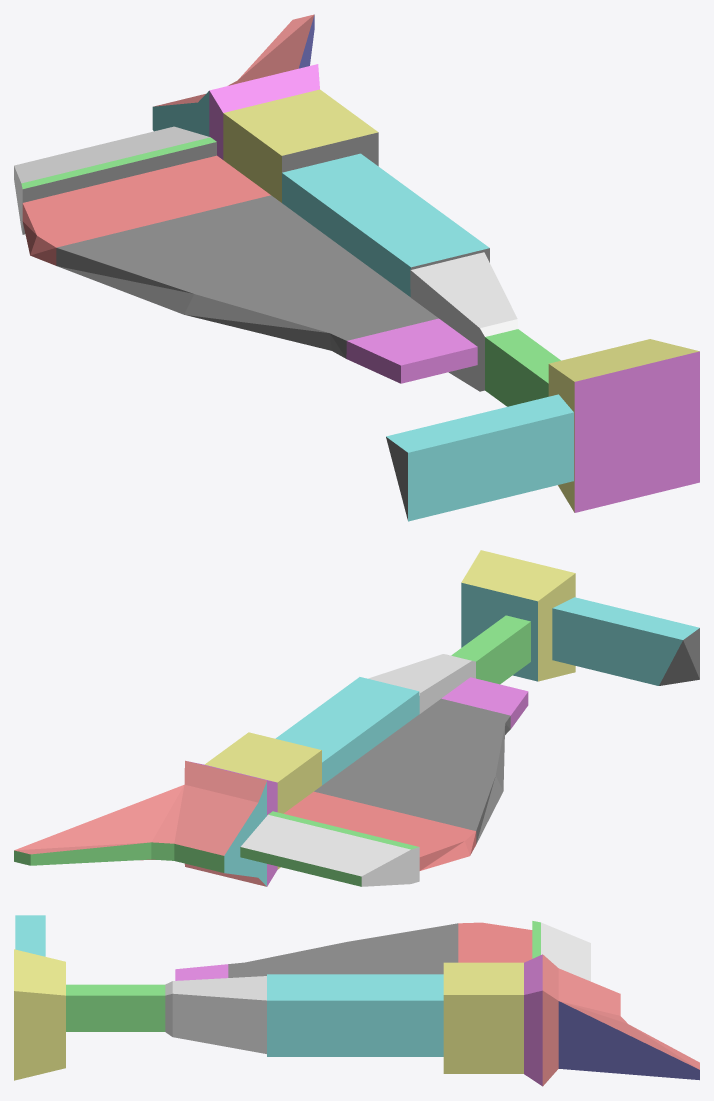
The model's file is Field_Deco_Artifact_S__world_obj17.gltf.
The picture shows the model from 3 angles, top to bottom: view 1: azimuth 30°, elevation 25°; view 2: azimuth 150°, elevation 25°; view 3: azimuth 270°, elevation 25°; orthographic projection. The views are drawn at different scales.
Visible parts, largest first — view 1: world_obj17; view 2: world_obj17; view 3: world_obj17.
Boxes of the visible parts, <box> form: world_obj17: <box>14,14,699,521</box>; world_obj17: <box>14,550,699,886</box>; world_obj17: <box>14,915,699,1086</box>.
Bounding box in the file's own units: 0.5989 × 0.1812 × 1.17.
